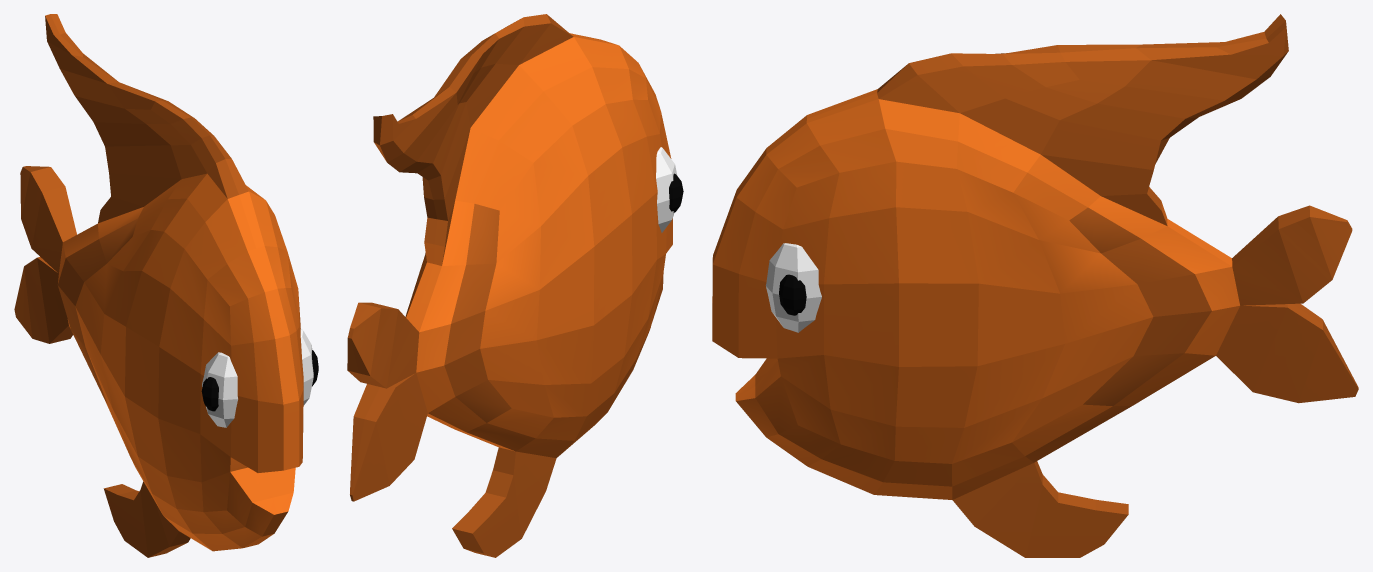
File: Fish_3.fbx
3 renders of one model, left to right at view 1: azimuth 30°, elevation 25°; view 2: azimuth 150°, elevation 25°; view 3: azimuth 270°, elevation 25°, orthographic. The views are drawn at different scales.
Parts seen in each view (by area): view 1: Fish_3; view 2: Fish_3; view 3: Fish_3.
Part boxes in pixels (left/top/right/bottom): Fish_3: left=14, top=14, right=318, bottom=557; Fish_3: left=347, top=14, right=683, bottom=557; Fish_3: left=712, top=14, right=1358, bottom=557.
Size of the model in its own units: 12.87 by 43.1 by 47.02.
